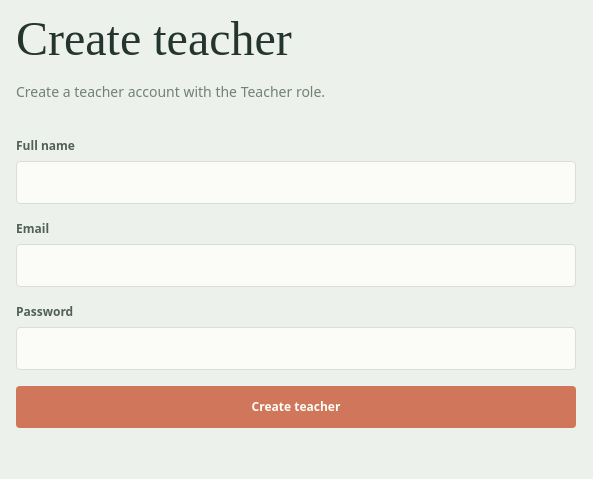
Scenario: CreateTeacherPage › shows the correct error message for status 400
In the field labelled "Full name": [296, 182] box [16, 161, 576, 204], type "  Ravi Kumar  "
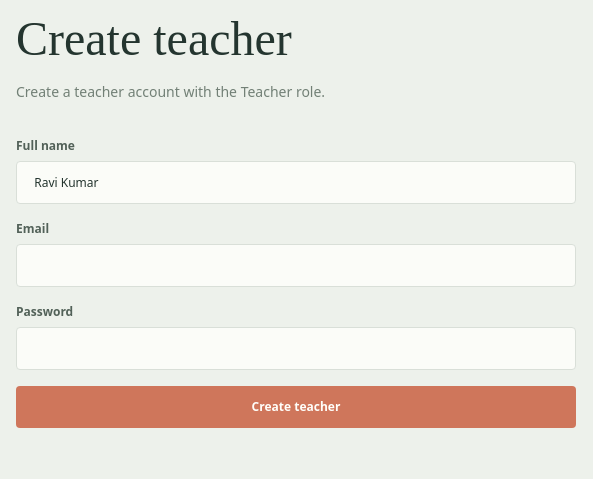
In the field labelled "Email": [296, 265] box [16, 244, 576, 287], type "  ravi@example.com  "
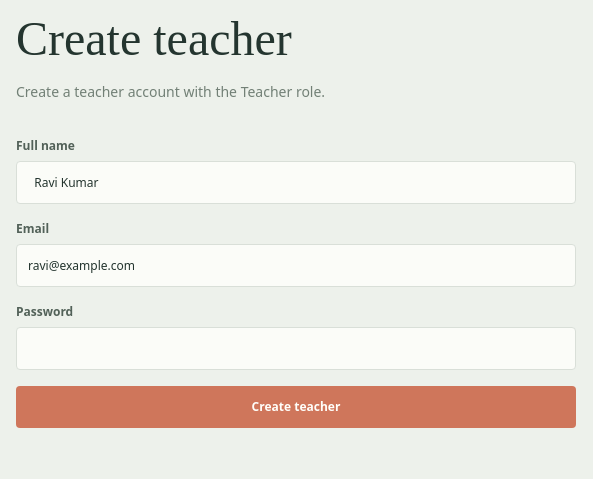
In the password field labelled "Password": [296, 348] box [16, 327, 576, 370], type "password123"
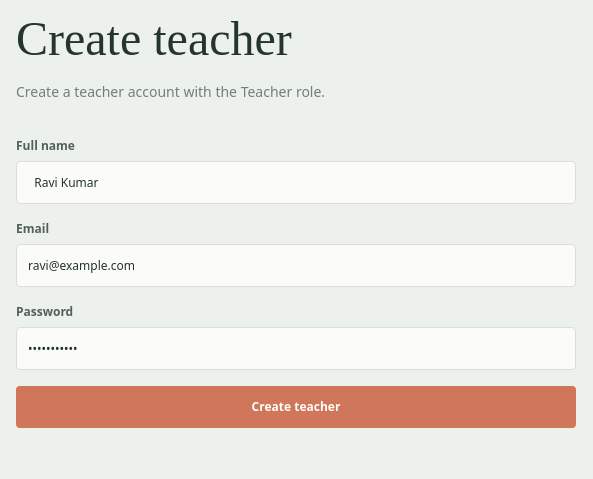
Click the button "Create teacher": [296, 407] box [16, 386, 576, 428]
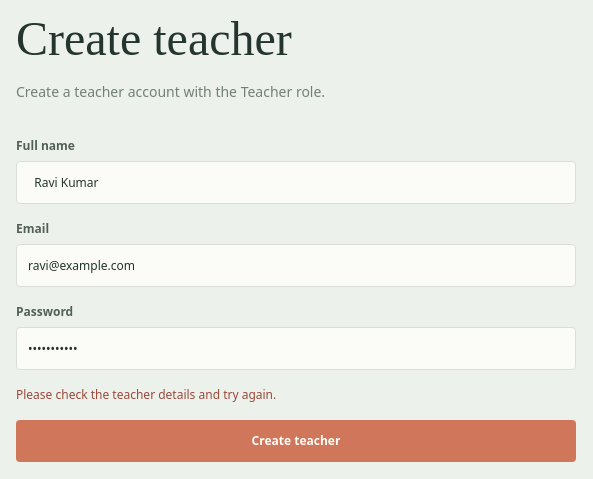
Expected: the button "Create teacher" is enabled, [16, 420, 576, 462]
Now the message reads "Please check the teacher details and try again.", box [16, 386, 276, 403]
